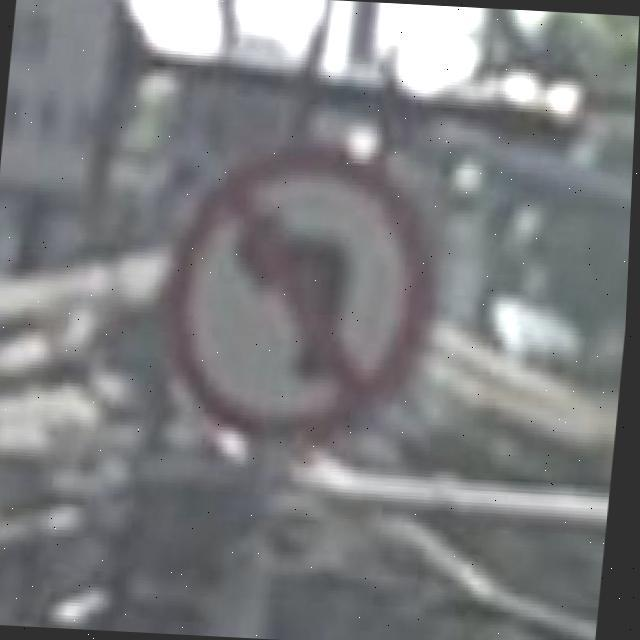Dilarang Belok Kiri: (170, 154, 438, 446)
